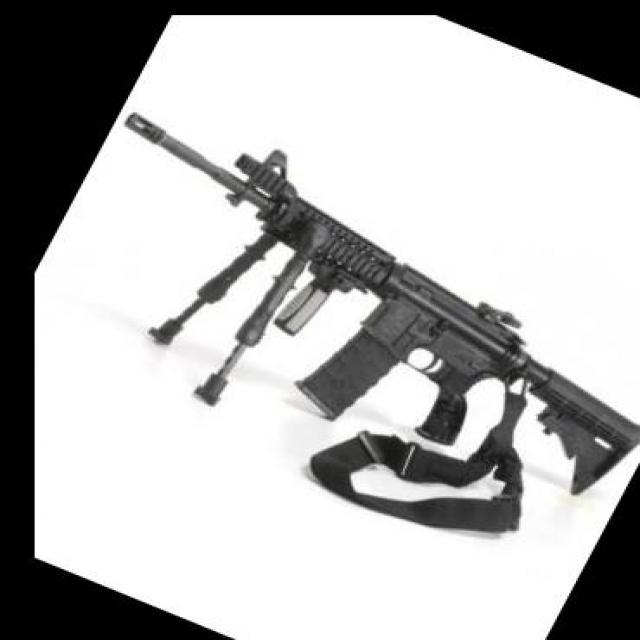weapon: (121, 110, 640, 497)
